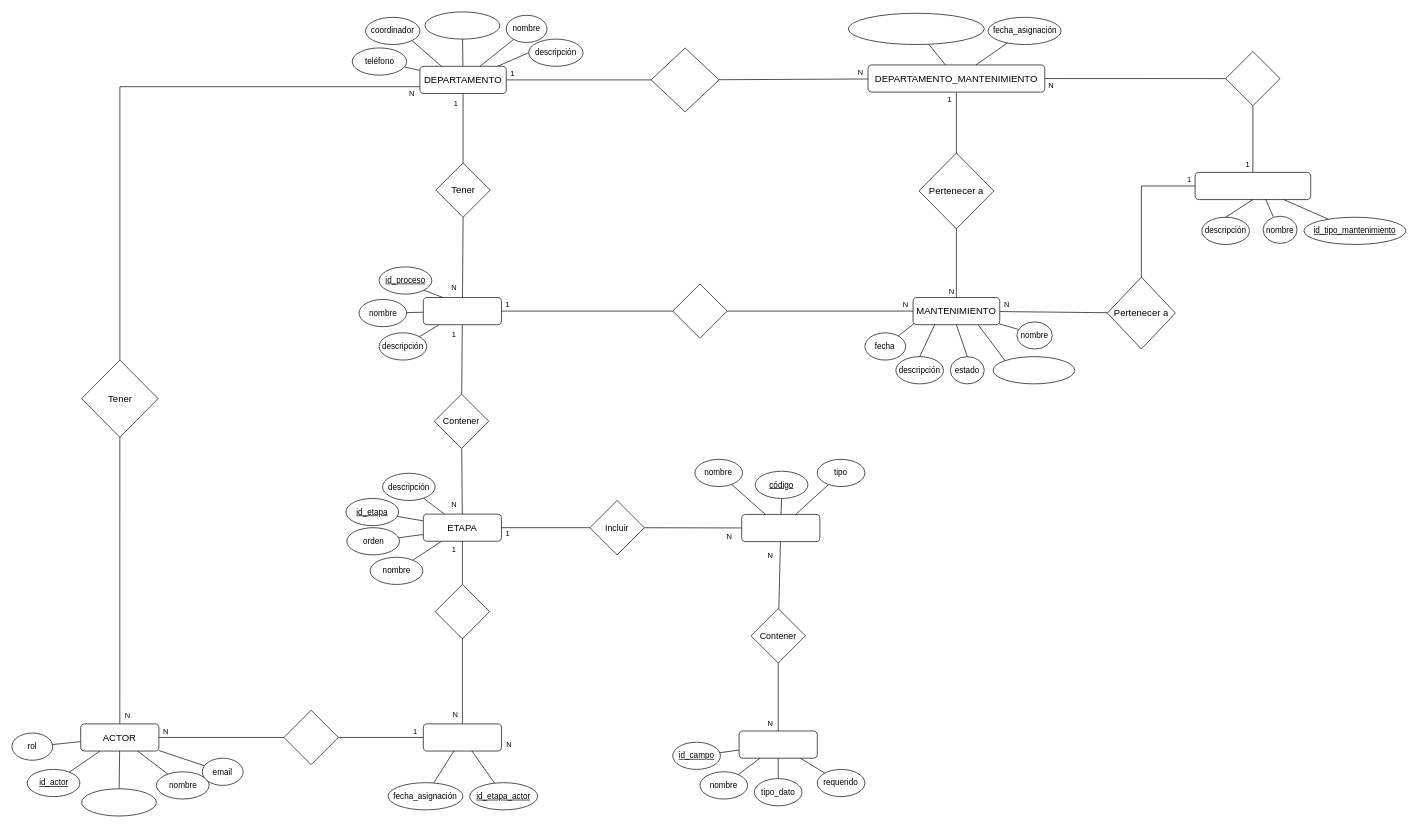
Some shapes in this 1418 by 828 pixel diagram are drawn without their labels. The centre of each missing label's shape, as x and y in pixels:
"Asignar" goes at point (462, 611).
"CAMPO" goes at point (777, 744).
"Definir" goes at point (1252, 78).
"ETAPA_ACTOR" goes at point (462, 737).
"FORMATO" goes at point (780, 528).
"id_departamento" goes at point (462, 25).
"id_departamento_mantenimiento" goes at point (916, 29).
"id_mantenimiento" goes at point (1033, 370).
"Involucrar" goes at point (699, 310).
"número_teléfono" goes at point (118, 802).
"Participar" goes at point (310, 737).
"Pertenecer" goes at point (684, 79).
"PROCESO" goes at point (462, 311).
"TIPO_MANTENIMIENTO" goes at point (1252, 186).
